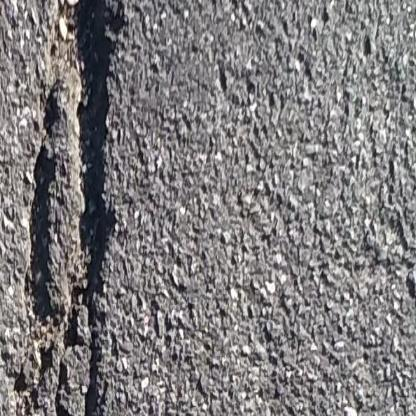Cracks: (1, 0, 126, 416)
